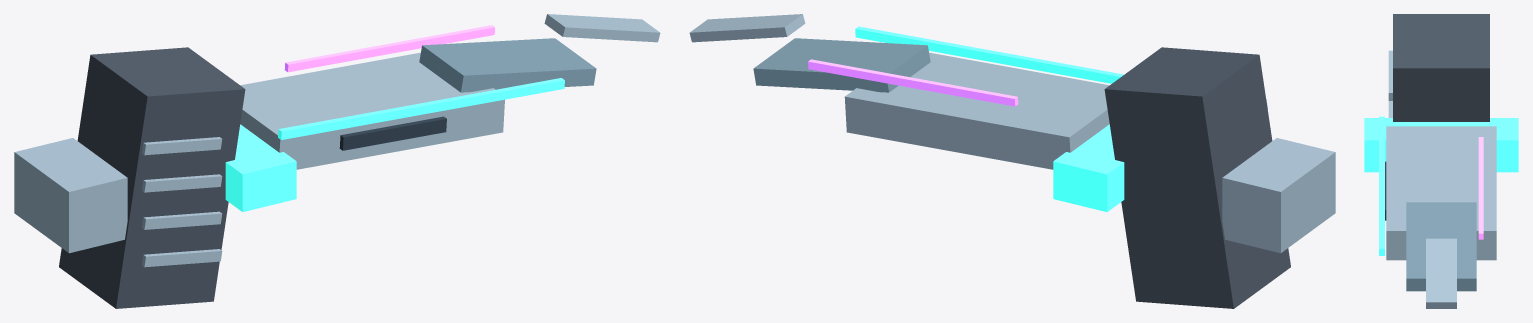
Rendered from knife.glb.
3 views of the same model, side by side, from view 1: azimuth 30°, elevation 25°; view 2: azimuth 150°, elevation 25°; view 3: azimuth 270°, elevation 25° (orthographic). The views are drawn at different scales.
Parts seen in each view (by area): view 1: Knife_Grip, Knife_Blade_Base, Knife_Pommel, Knife_Blade_Tip, Knife_Guard, Knife_Energy_Edge, Knife_Blade_Point, Knife_Spine_Glow, Knife_Groove, Knife_Grip_ridge1, Knife_Grip_ridge2, Knife_Grip_ridge3 (+1 smaller); view 2: Knife_Grip, Knife_Blade_Base, Knife_Pommel, Knife_Blade_Tip, Knife_Guard, Knife_Energy_Edge, Knife_Blade_Point, Knife_Spine_Glow; view 3: Knife_Blade_Base, Knife_Grip, Knife_Blade_Tip, Knife_Guard, Knife_Blade_Point, Knife_Energy_Edge, Knife_Spine_Glow, Knife_Grip_ridge3, Knife_Groove.
Boxes of the visible parts, x1,y1,x2,y2 form: Knife_Grip: [59, 47, 245, 308]; Knife_Blade_Base: [240, 52, 504, 169]; Knife_Pommel: [14, 138, 127, 253]; Knife_Blade_Tip: [419, 38, 596, 92]; Knife_Guard: [225, 124, 296, 211]; Knife_Energy_Edge: [278, 78, 564, 139]; Knife_Blade_Point: [544, 14, 660, 42]; Knife_Spine_Glow: [284, 25, 494, 72]; Knife_Groove: [339, 116, 446, 150]; Knife_Grip_ridge1: [142, 211, 222, 229]; Knife_Grip_ridge2: [142, 174, 222, 192]; Knife_Grip_ridge3: [142, 137, 222, 155]; Knife_Grip: [1104, 47, 1290, 308]; Knife_Blade_Base: [844, 52, 1109, 169]; Knife_Pommel: [1222, 138, 1335, 253]; Knife_Blade_Tip: [753, 38, 930, 92]; Knife_Guard: [1053, 124, 1124, 211]; Knife_Energy_Edge: [855, 26, 1123, 83]; Knife_Blade_Point: [689, 14, 805, 42]; Knife_Spine_Glow: [808, 59, 1018, 106]; Knife_Blade_Base: [1386, 126, 1496, 260]; Knife_Grip: [1393, 14, 1489, 121]; Knife_Blade_Tip: [1406, 202, 1476, 291]; Knife_Guard: [1364, 118, 1518, 172]; Knife_Blade_Point: [1426, 238, 1456, 308]; Knife_Energy_Edge: [1379, 116, 1384, 255]; Knife_Spine_Glow: [1478, 137, 1483, 239]; Knife_Grip_ridge3: [1388, 50, 1392, 100]; Knife_Groove: [1385, 161, 1386, 220].
Bounding box in the file's own units: 1.35 × 0.4694 × 0.35.
